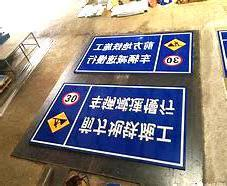sign: (31, 79, 189, 169), (72, 32, 194, 75)
